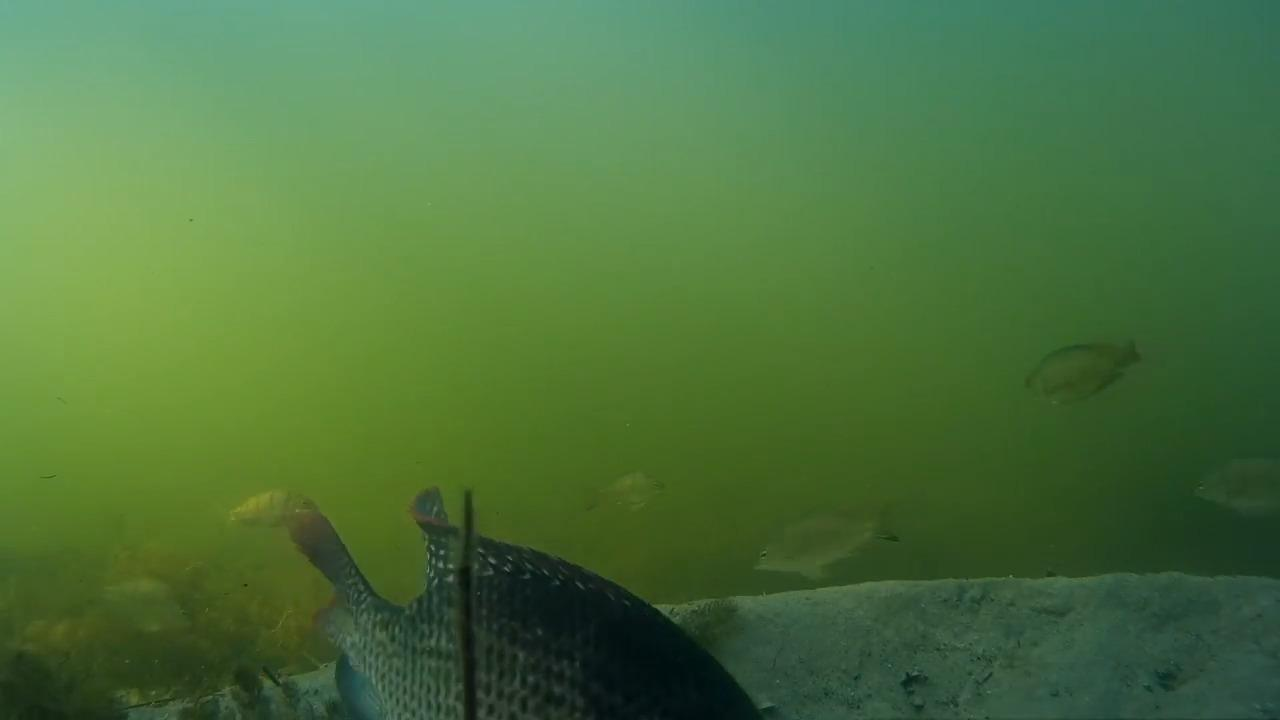Tilapia: (279, 494, 772, 720), (1017, 324, 1152, 414), (743, 504, 910, 572), (1167, 442, 1280, 534), (551, 452, 680, 528), (203, 466, 330, 542)
